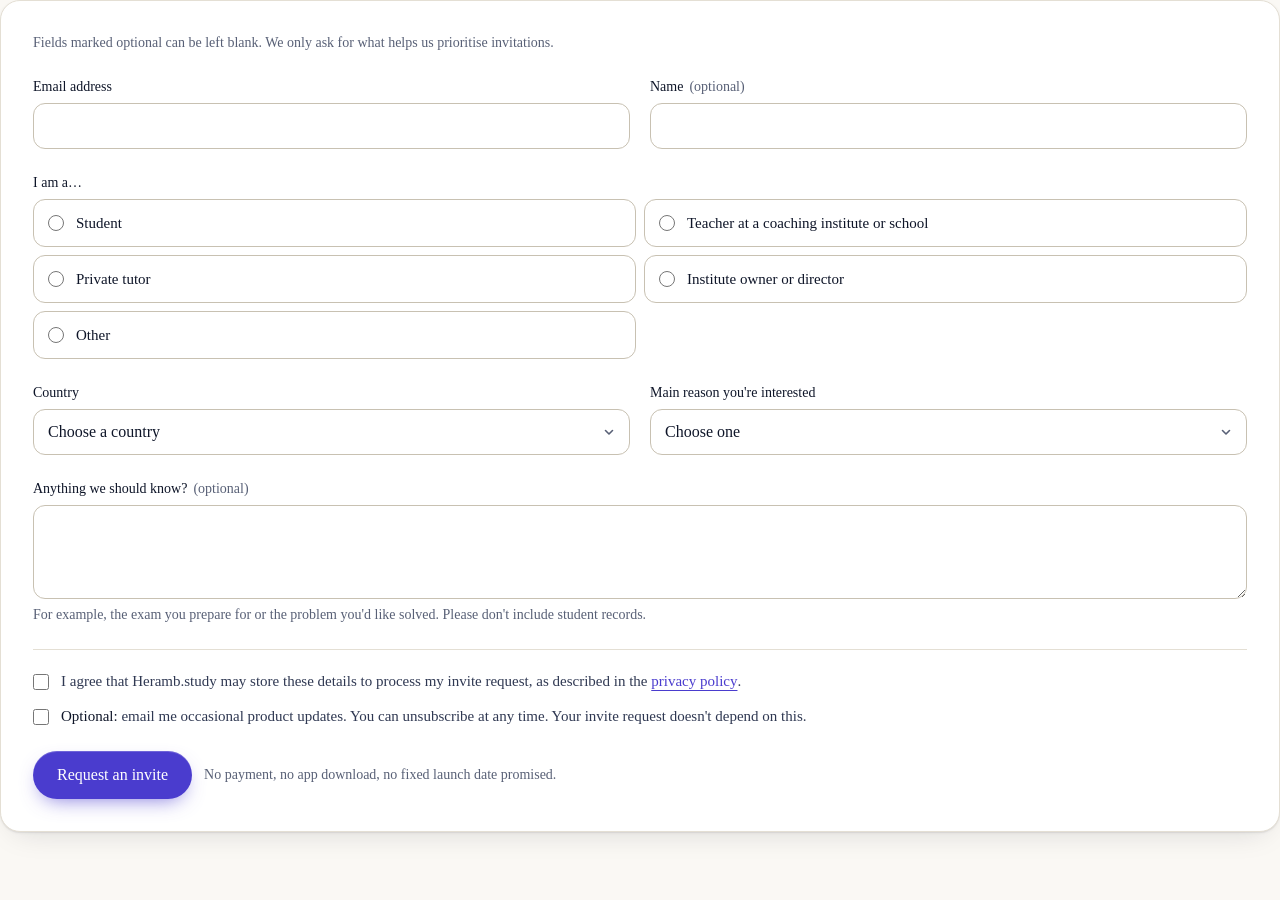
InviteForm › shows the server's honest error and keeps the form when storage is unavailable
Type "teacher@example.com" into the field labelled "Email address".
click(332, 126); type("teacher@example.com")  # box x1=33 y1=103 x2=630 y2=149
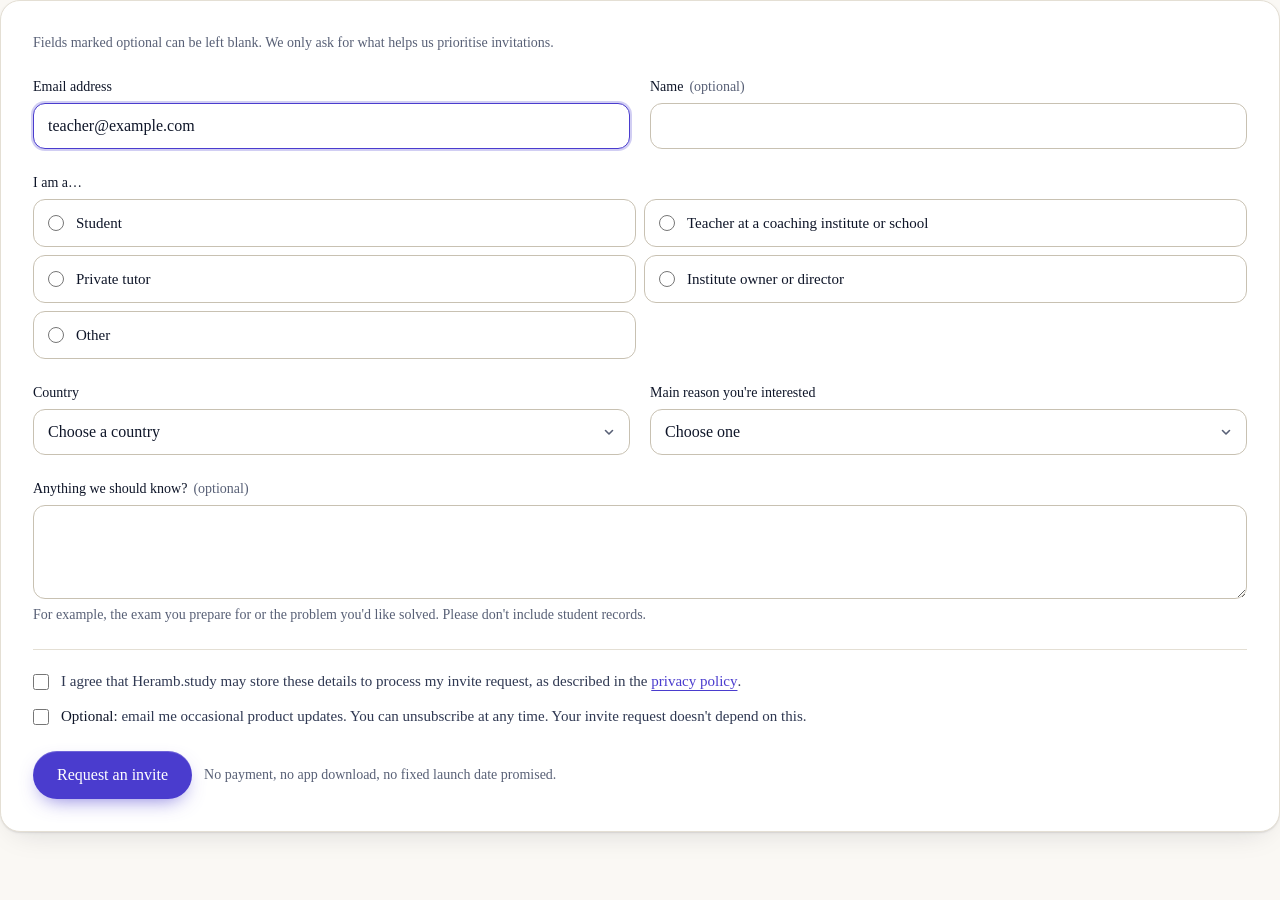
Click the radio button labelled "Private tutor".
click(56, 279)  # box x1=48 y1=271 x2=64 y2=287
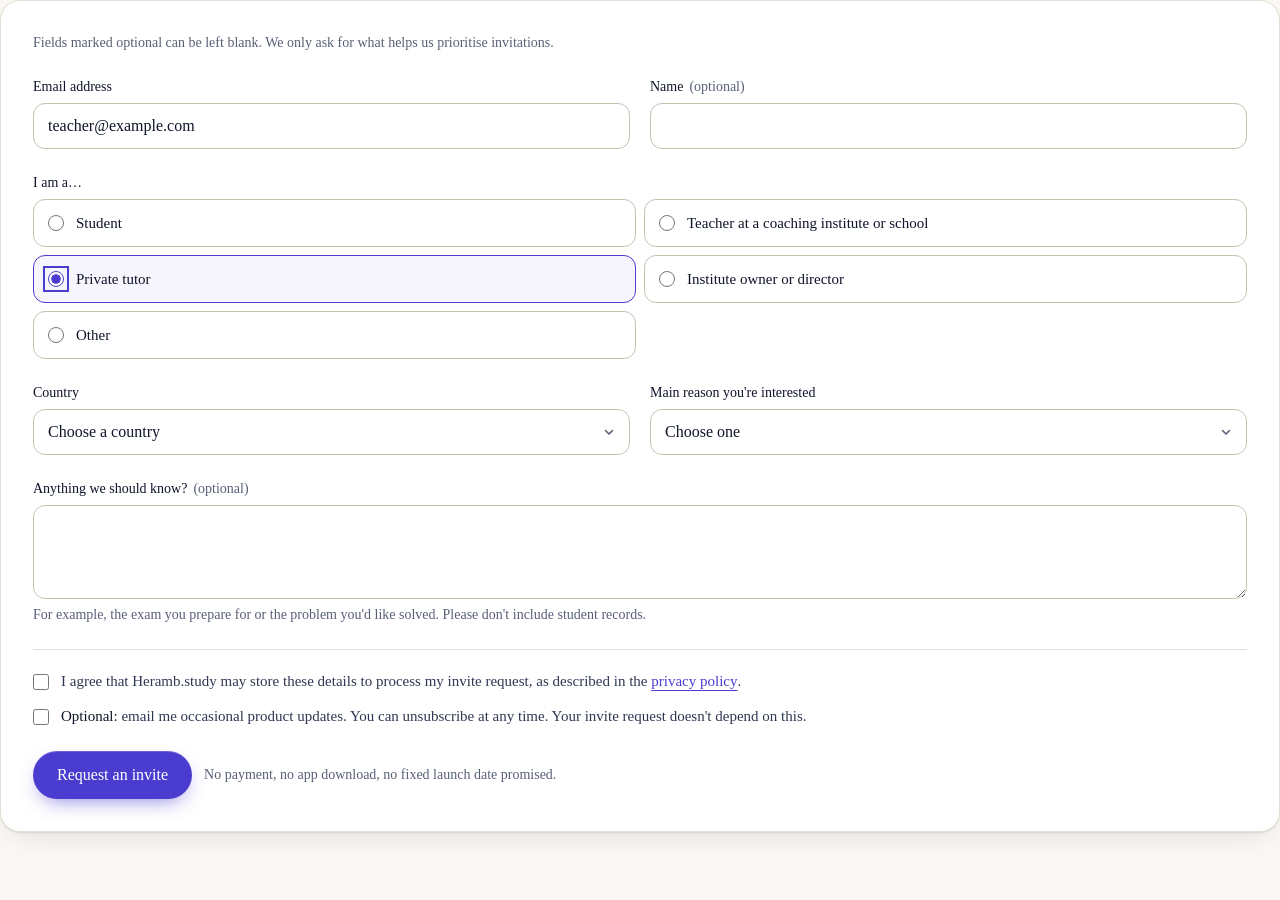
Select "India" in the dropdown labelled "Country" at (332, 432), box x1=33 y1=409 x2=630 y2=455
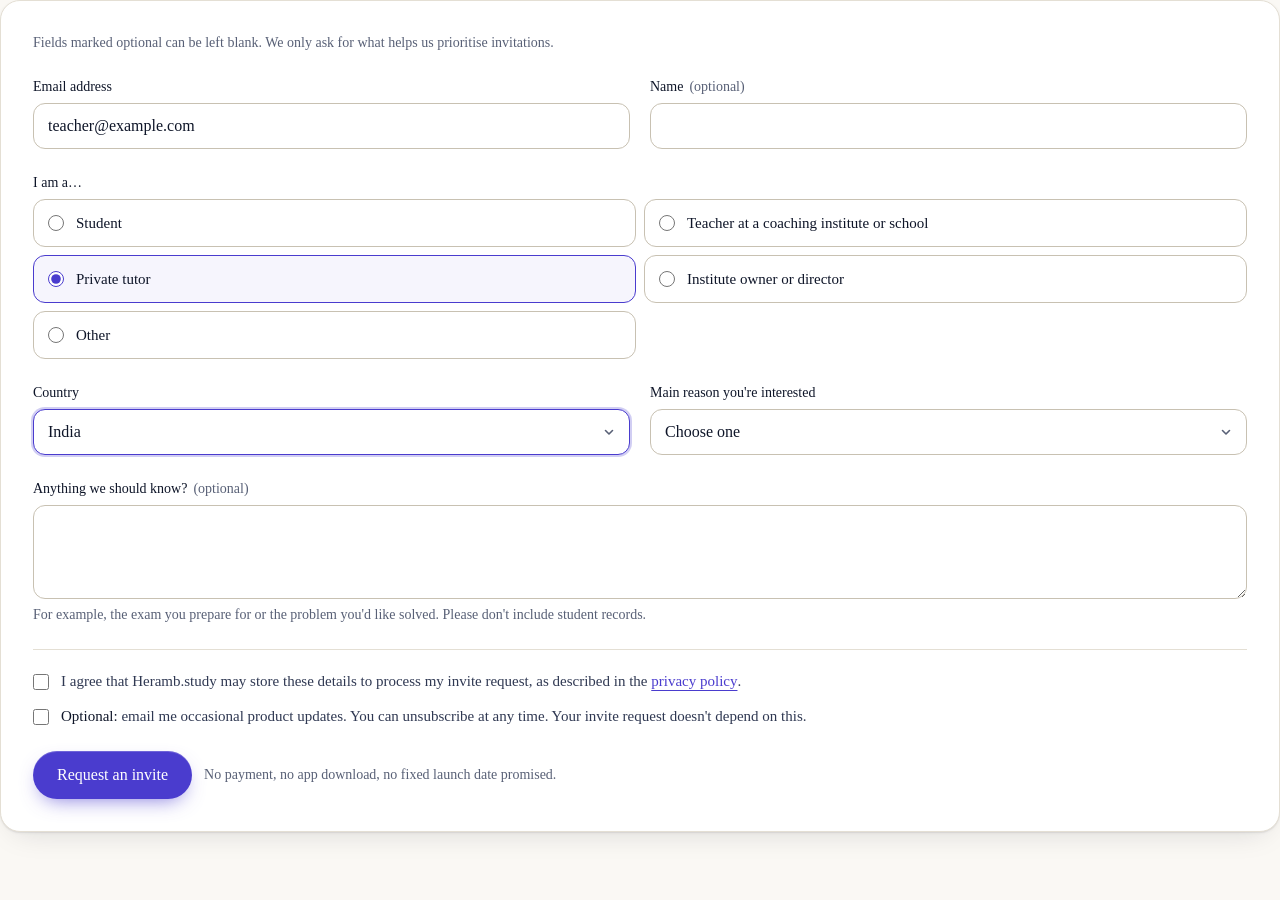
Select "Track student progress between tests" in the dropdown labelled "Main reason you're interested" at (948, 432), box x1=650 y1=409 x2=1247 y2=455
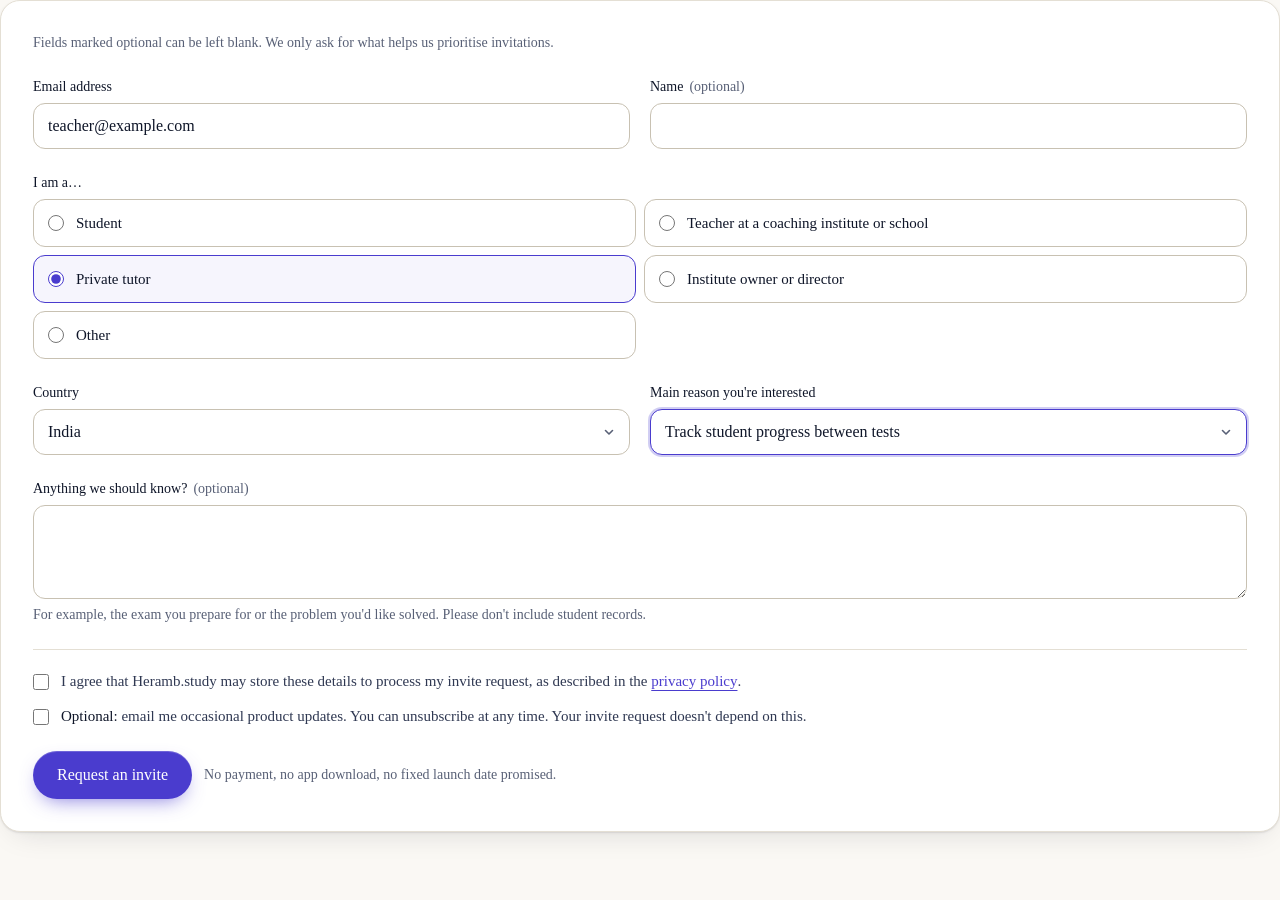
Click the checkbox labelled "I agree that Heramb.study may store".
click(41, 682)  # box x1=33 y1=674 x2=49 y2=690
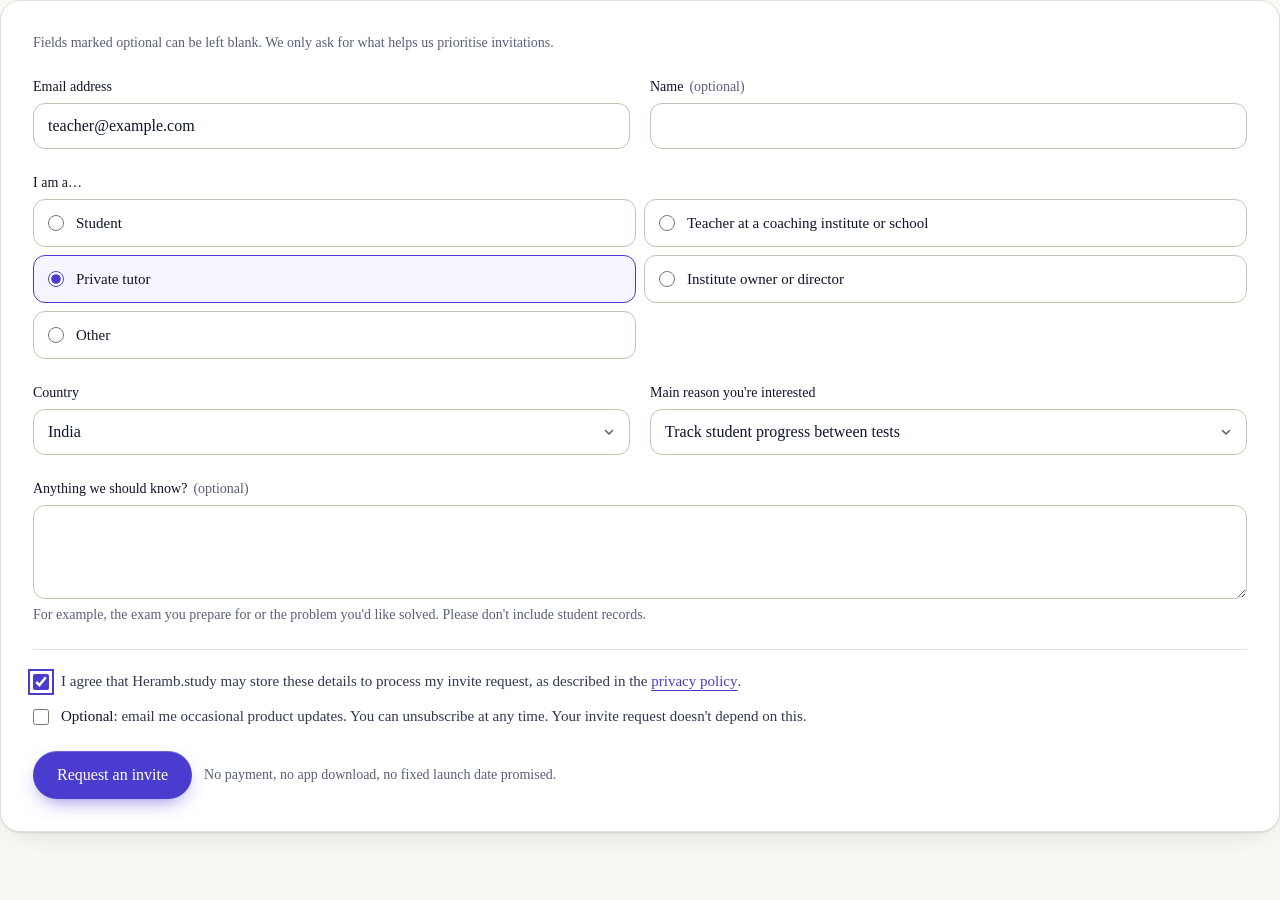
Click the button "Request an invite".
click(113, 775)  # box x1=33 y1=751 x2=192 y2=799
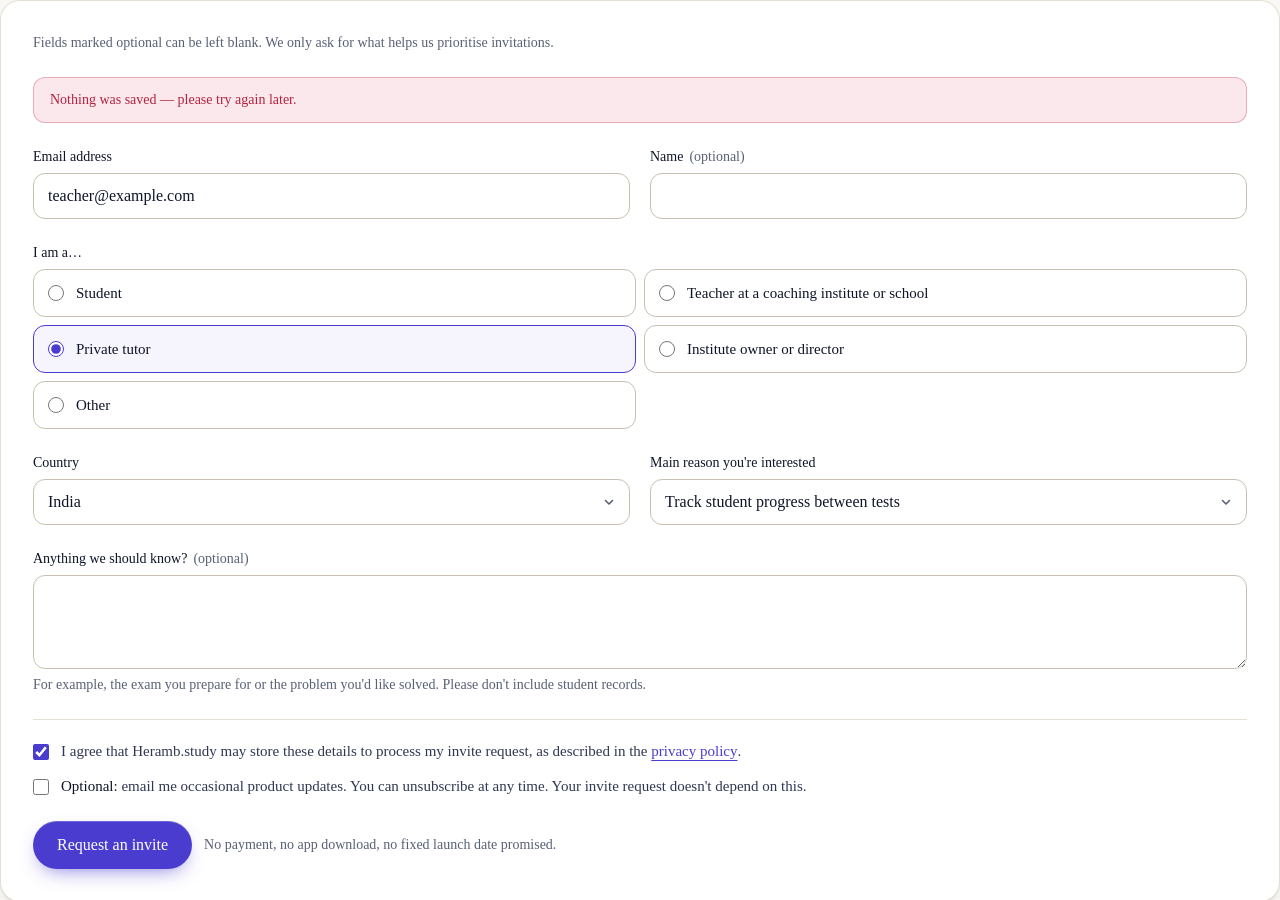
Result: the message with test id "invite-error" shows "Nothing was saved" at x1=50 y1=92 x2=296 y2=107
